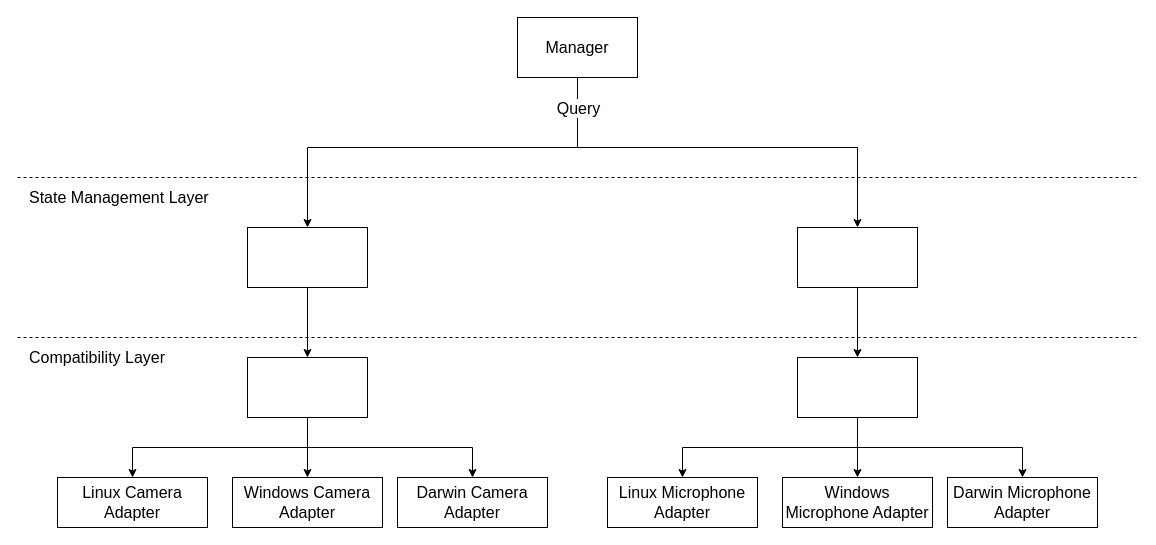
Image size: 1156x545. Some labels were removed from this diagram. Each missing label, with the centre of its shape:
AudioAdapter: the point at 857,387
AudioDriver: the point at 857,257
VideoAdapter: the point at 307,387
VideoDriver: the point at 307,257
